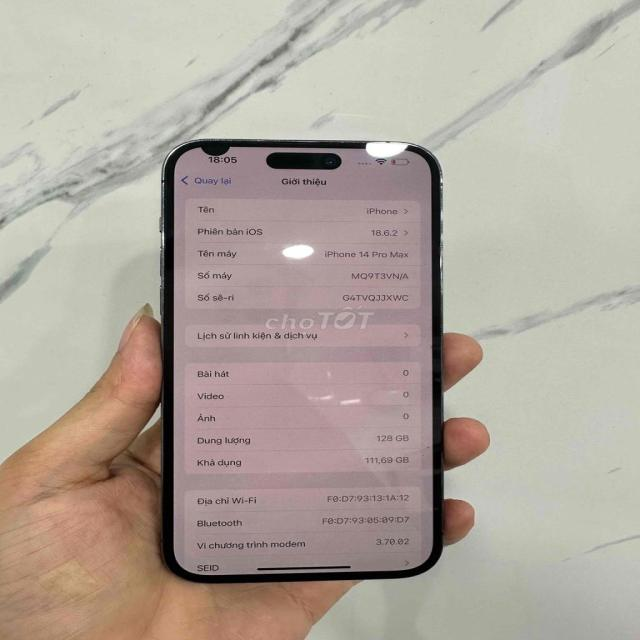screen_defect: (182, 127, 245, 166)
